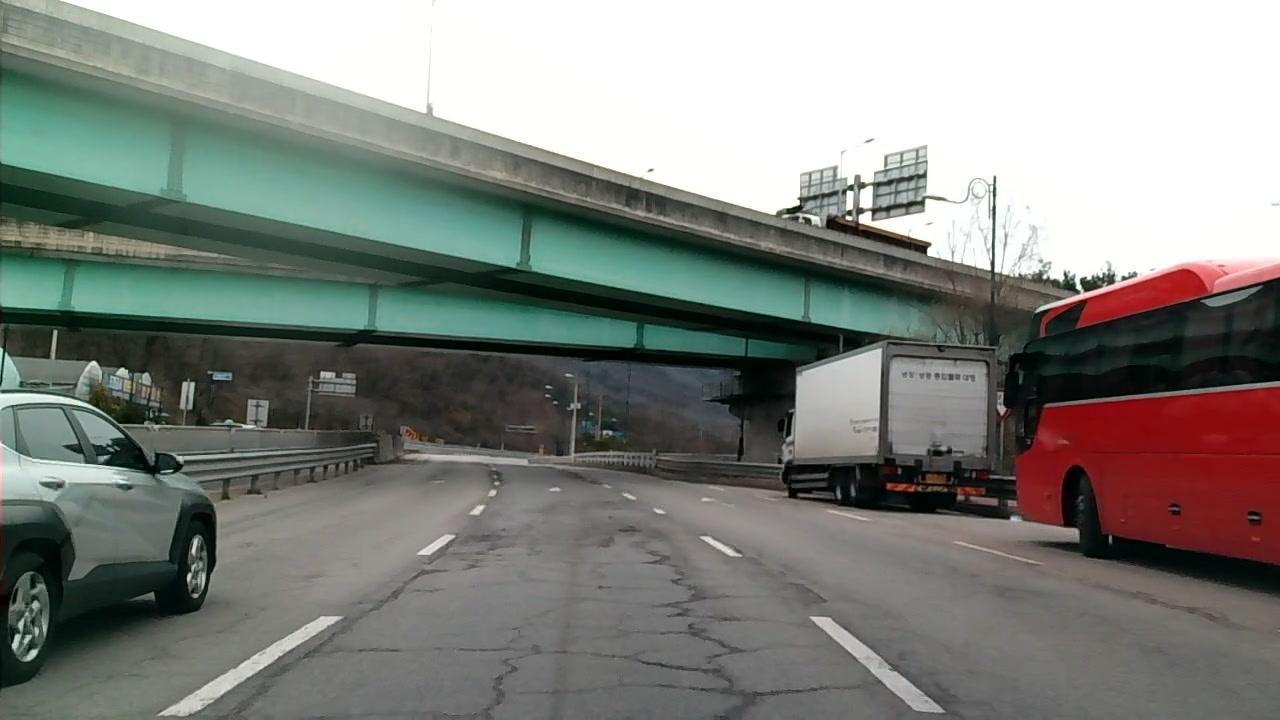erosion: (490, 547, 846, 720)
hcrack: (336, 638, 493, 660)
vcrack: (224, 639, 323, 720), (340, 565, 443, 634), (1093, 583, 1228, 623)
